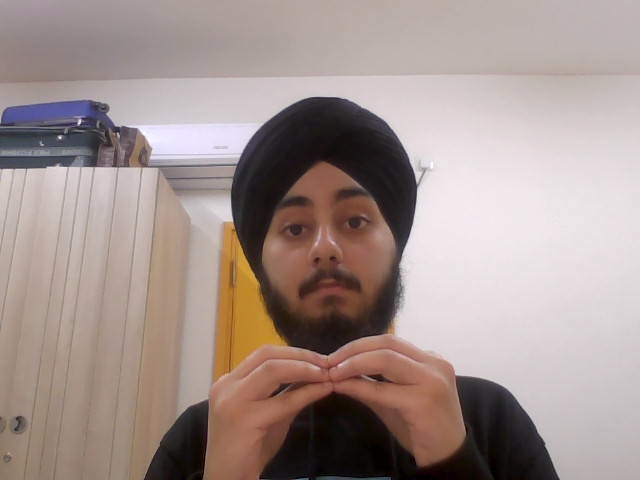More: (205, 332, 471, 478)
